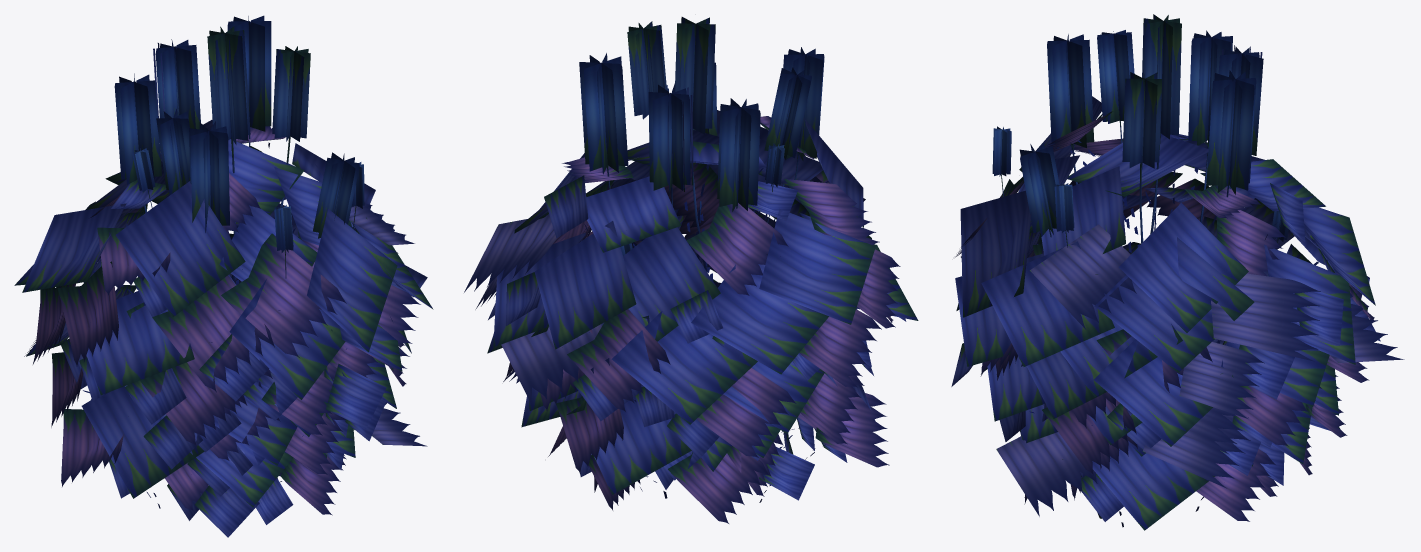
The model's file is lupinePlant_edit_for_FBX.fbx.
The picture shows the model from 3 angles, left to right: view 1: azimuth 30°, elevation 25°; view 2: azimuth 150°, elevation 25°; view 3: azimuth 270°, elevation 25°; orthographic projection. The views are drawn at different scales.
Visible parts, largest first — view 1: plantsFlowers; view 2: plantsFlowers; view 3: plantsFlowers.
Part boxes in pixels (bbox=[...]): plantsFlowers: bbox=[14, 15, 433, 537]; plantsFlowers: bbox=[464, 17, 918, 523]; plantsFlowers: bbox=[951, 14, 1404, 530].
Bounding box in the file's own units: 7655 × 8877 × 7727.
